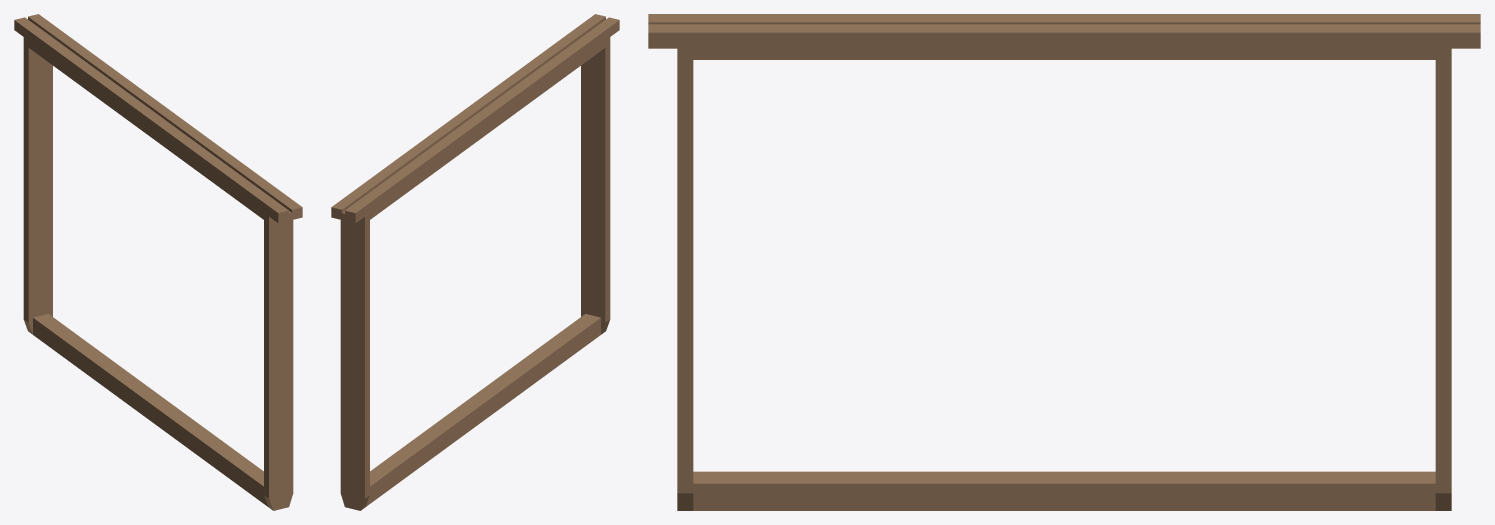
The model's file is cadre_de_ruche.fbx.
3 renders of one model, left to right at view 1: azimuth 30°, elevation 25°; view 2: azimuth 150°, elevation 25°; view 3: azimuth 270°, elevation 25°, orthographic. The views are drawn at different scales.
Visible parts, largest first — view 1: Cube; view 2: Cube; view 3: Cube.
Part boxes in pixels (<box>): Cube: <box>14,14,302,510</box>; Cube: <box>331,14,619,510</box>; Cube: <box>648,14,1480,510</box>.
Size of the model in its own units: 2.5 by 30 by 46.99.
